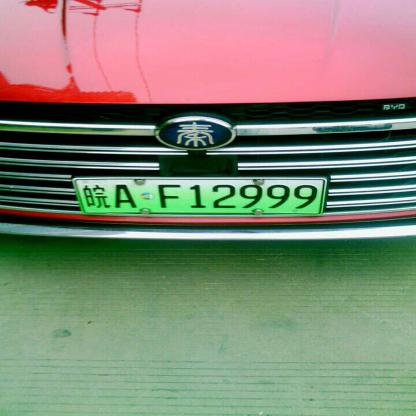lp: (72, 177, 324, 217)
